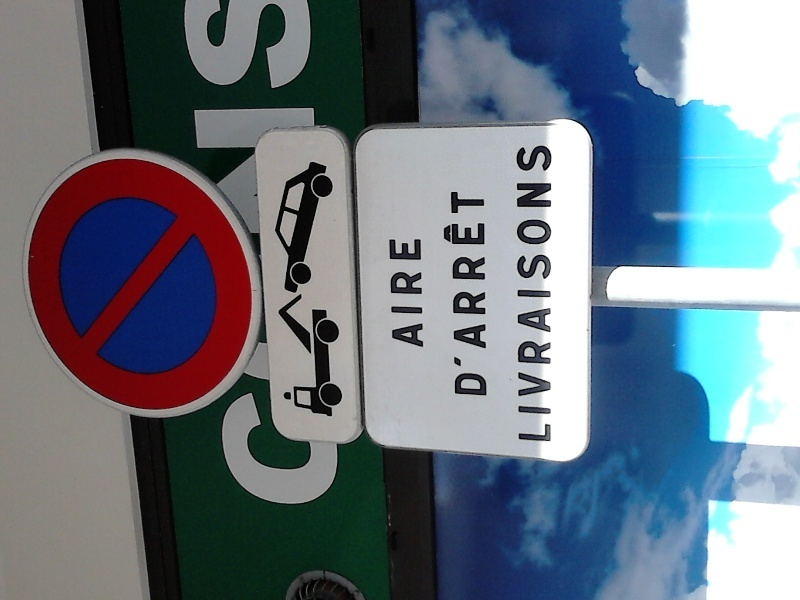text: (529, 144, 544, 442), (514, 144, 528, 442), (449, 191, 464, 350), (465, 191, 480, 350), (545, 144, 553, 442), (209, 386, 224, 510), (225, 386, 240, 510), (241, 386, 256, 510), (257, 386, 272, 510), (273, 386, 288, 510), (289, 386, 304, 510), (305, 386, 320, 510), (321, 386, 336, 510), (401, 238, 416, 349), (193, 1, 208, 95), (209, 1, 224, 95), (225, 1, 240, 95), (241, 1, 256, 95), (257, 1, 272, 95), (273, 1, 288, 95), (289, 1, 304, 95), (388, 238, 400, 349), (481, 191, 488, 350), (442, 191, 448, 350), (182, 1, 192, 95), (305, 1, 314, 95), (417, 238, 424, 349), (465, 356, 480, 397), (451, 356, 464, 397), (337, 386, 340, 510), (481, 356, 489, 397), (207, 386, 208, 510)
